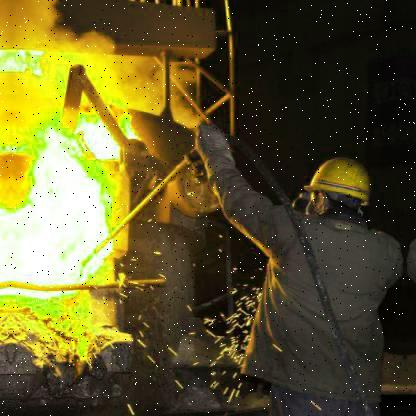Helmet: (294, 152, 386, 238)
